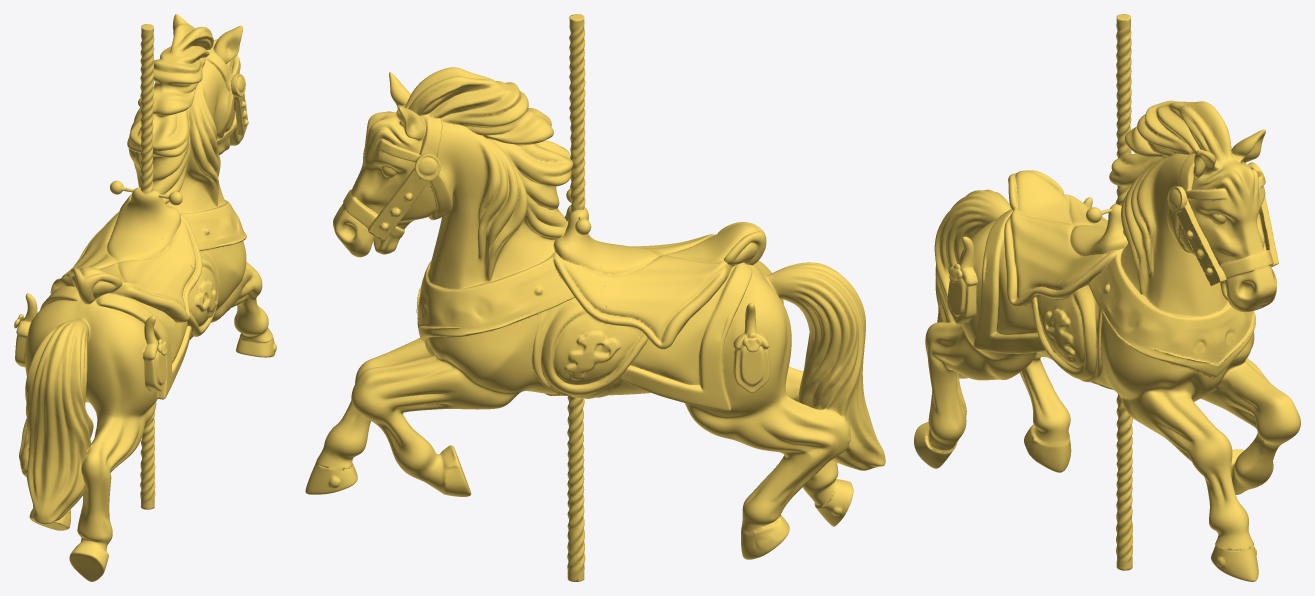
The model's file is horse_Y.glb.
3 views of the same model, side by side, from view 1: azimuth 30°, elevation 25°; view 2: azimuth 150°, elevation 25°; view 3: azimuth 270°, elevation 25° (orthographic). The views are drawn at different scales.
Parts seen in each view (by area): view 1: tripo_node_ee63cbfc-d7be-431d-95cd-ca973c026d08; view 2: tripo_node_ee63cbfc-d7be-431d-95cd-ca973c026d08; view 3: tripo_node_ee63cbfc-d7be-431d-95cd-ca973c026d08.
Part boxes in pixels (box(x1,y1,x2,y2)): tripo_node_ee63cbfc-d7be-431d-95cd-ca973c026d08: box(14, 14, 276, 581); tripo_node_ee63cbfc-d7be-431d-95cd-ca973c026d08: box(305, 14, 885, 581); tripo_node_ee63cbfc-d7be-431d-95cd-ca973c026d08: box(914, 14, 1300, 581).
Bounding box in the file's own units: 0.7926 × 1 × 0.6377.
